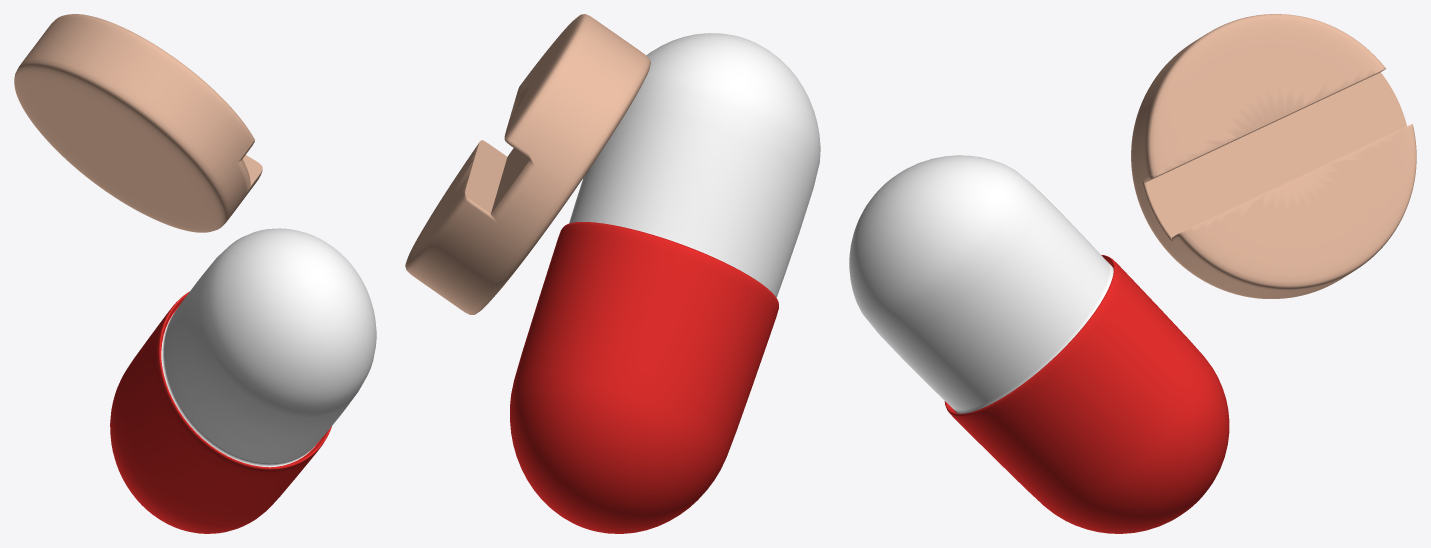
File: pills.gltf
3 renders of one model, left to right at view 1: azimuth 30°, elevation 25°; view 2: azimuth 150°, elevation 25°; view 3: azimuth 270°, elevation 25°, orthographic. The views are drawn at different scales.
Parts seen in each view (by area): view 1: Sphere.006, Cylinder.018; view 2: Sphere.006, Cylinder.018; view 3: Sphere.006, Cylinder.018.
Boxes of the visible parts, left/top/right/bottom form: Sphere.006: left=110, top=228, right=376, bottom=533; Cylinder.018: left=14, top=14, right=262, bottom=232; Sphere.006: left=510, top=33, right=820, bottom=533; Cylinder.018: left=405, top=14, right=650, bottom=314; Sphere.006: left=849, top=155, right=1229, bottom=533; Cylinder.018: left=1131, top=14, right=1416, bottom=298.
Size of the model in its own units: 2.54 by 6.22 by 6.45.
